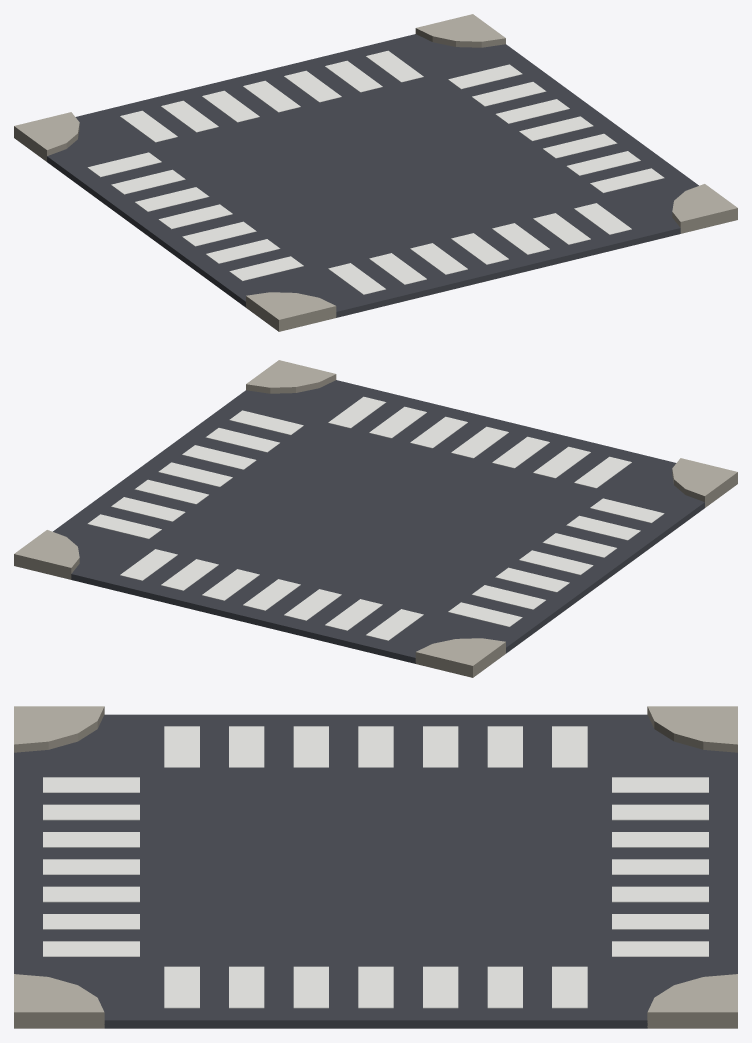
Rendered from Road_Intersection.glb.
3 renders of one model, top to bottom at view 1: azimuth 30°, elevation 25°; view 2: azimuth 150°, elevation 25°; view 3: azimuth 270°, elevation 25°, orthographic. The views are drawn at different scales.
Parts seen in each view (by area): view 1: Road_Intersection_Asphalt, Road_Intersection_Sidewalk; view 2: Road_Intersection_Asphalt, Road_Intersection_Sidewalk; view 3: Road_Intersection_Asphalt, Road_Intersection_Sidewalk.
Part boxes in pixels (<box>): Road_Intersection_Asphalt: <box>47,34,698,317</box>; Road_Intersection_Sidewalk: <box>14,14,737,331</box>; Road_Intersection_Asphalt: <box>53,380,704,663</box>; Road_Intersection_Sidewalk: <box>14,360,737,677</box>; Road_Intersection_Asphalt: <box>14,714,737,1028</box>; Road_Intersection_Sidewalk: <box>14,706,737,1028</box>.
Bounding box in the file's own units: 11.2 × 0.28 × 11.2.
Materials: 1 (1 with a texture image).
